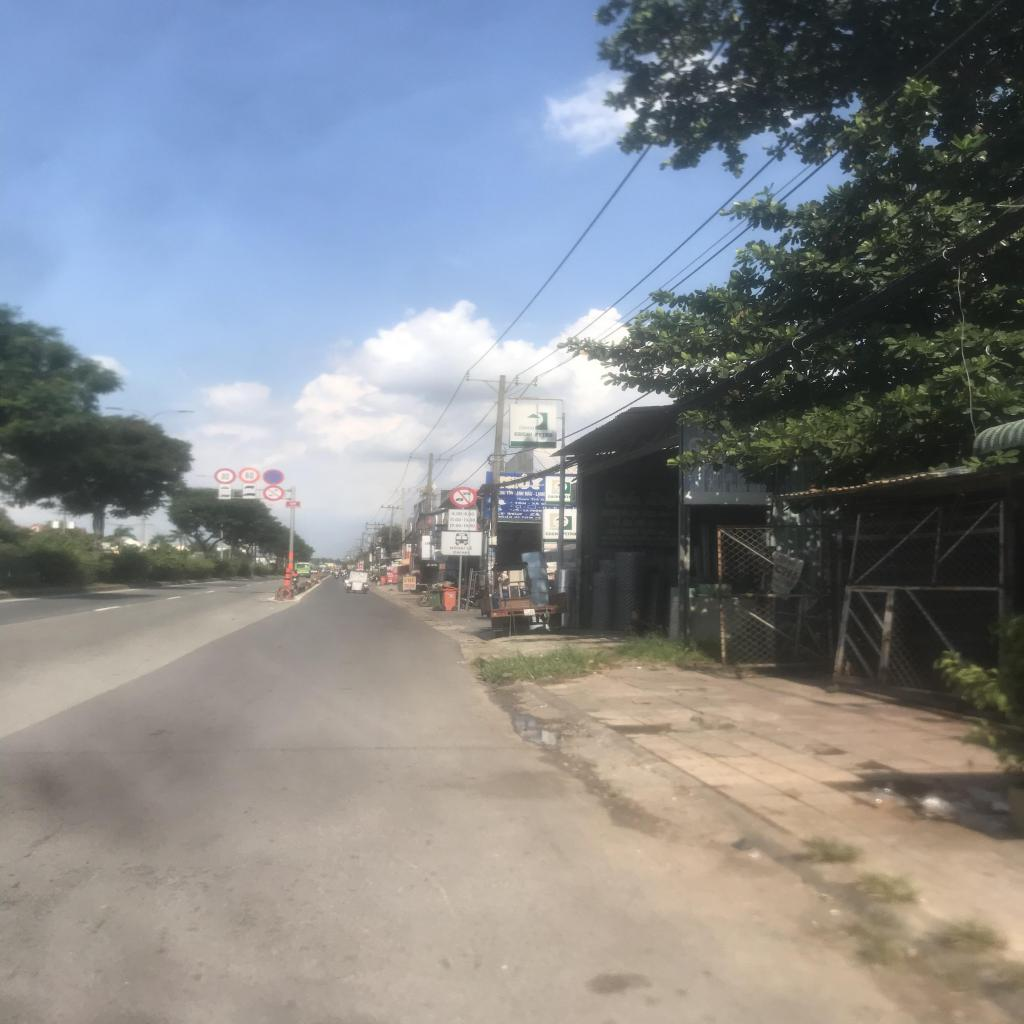cam_dung_xe_va_do_xe: (263, 469, 284, 485)
cam_o_to_tai_va_xe_khach: (449, 486, 477, 508)
cam_xe_2_banh_va_xe_3_banh_co_dong_co: (263, 485, 285, 500)
khac: (440, 532, 482, 555), (448, 509, 477, 531), (218, 492, 230, 499), (242, 492, 256, 498), (244, 484, 256, 490), (220, 485, 232, 490)
toc_do_toi_da_60: (239, 468, 260, 482)
toc_do_toi_da_80: (215, 469, 236, 484)
